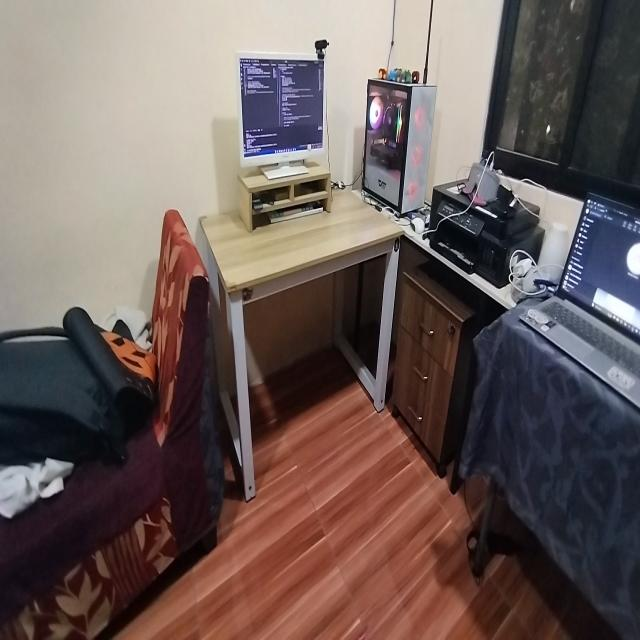table: (199, 180, 404, 508)
